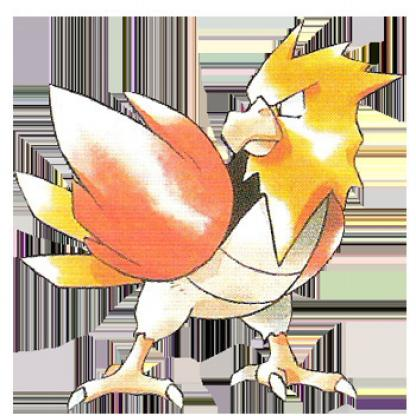Spearow: (16, 20, 401, 416)
